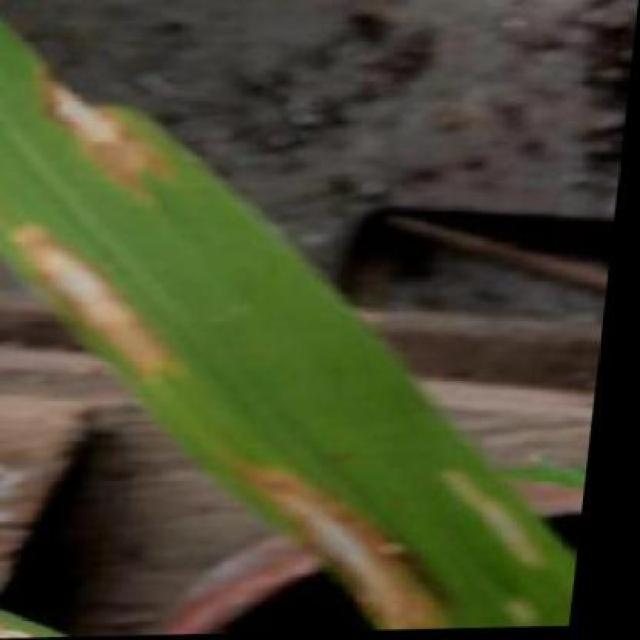Bacterial_Leaf_Blight: (230, 439, 488, 627), (0, 198, 218, 404), (15, 29, 206, 196)
Brown_Spot: (0, 570, 228, 639)
